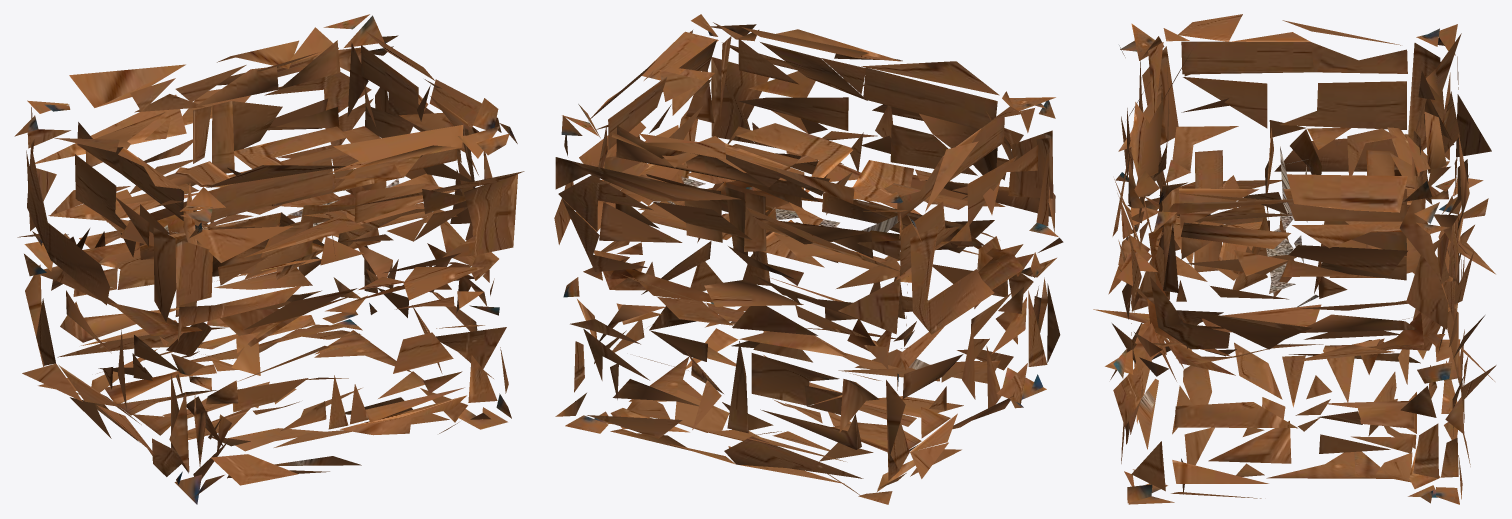
Rendered from cassa.glb.
The picture shows the model from 3 angles, left to right: view 1: azimuth 30°, elevation 25°; view 2: azimuth 150°, elevation 25°; view 3: azimuth 270°, elevation 25°; orthographic projection. The views are drawn at different scales.
Visible parts, largest first — view 1: Mesh_0; view 2: Mesh_0; view 3: Mesh_0.
Boxes of the visible parts, x1,y1,x2,y2 form: Mesh_0: (14, 14, 524, 504); Mesh_0: (554, 14, 1063, 504); Mesh_0: (1093, 14, 1496, 504).
Size of the model in its own units: 2.03 by 1.66 by 1.76.
Materials: 1 (1 with a texture image).
